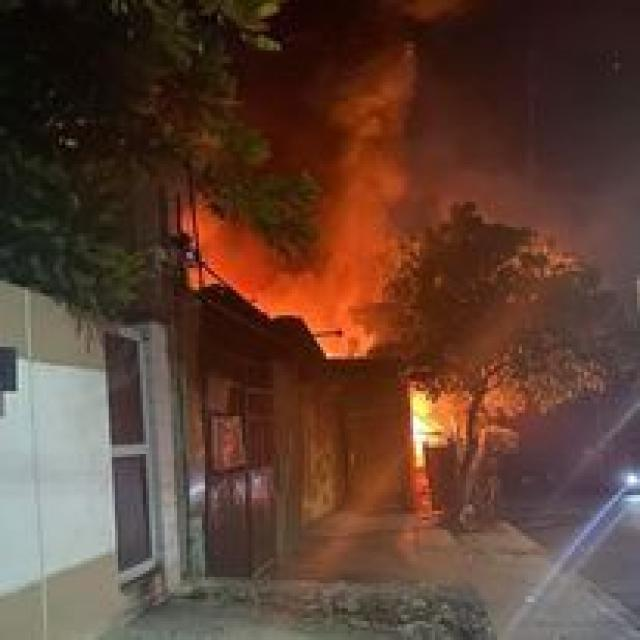Fire: (392, 369, 461, 494)
Smoke: (157, 0, 417, 371)
